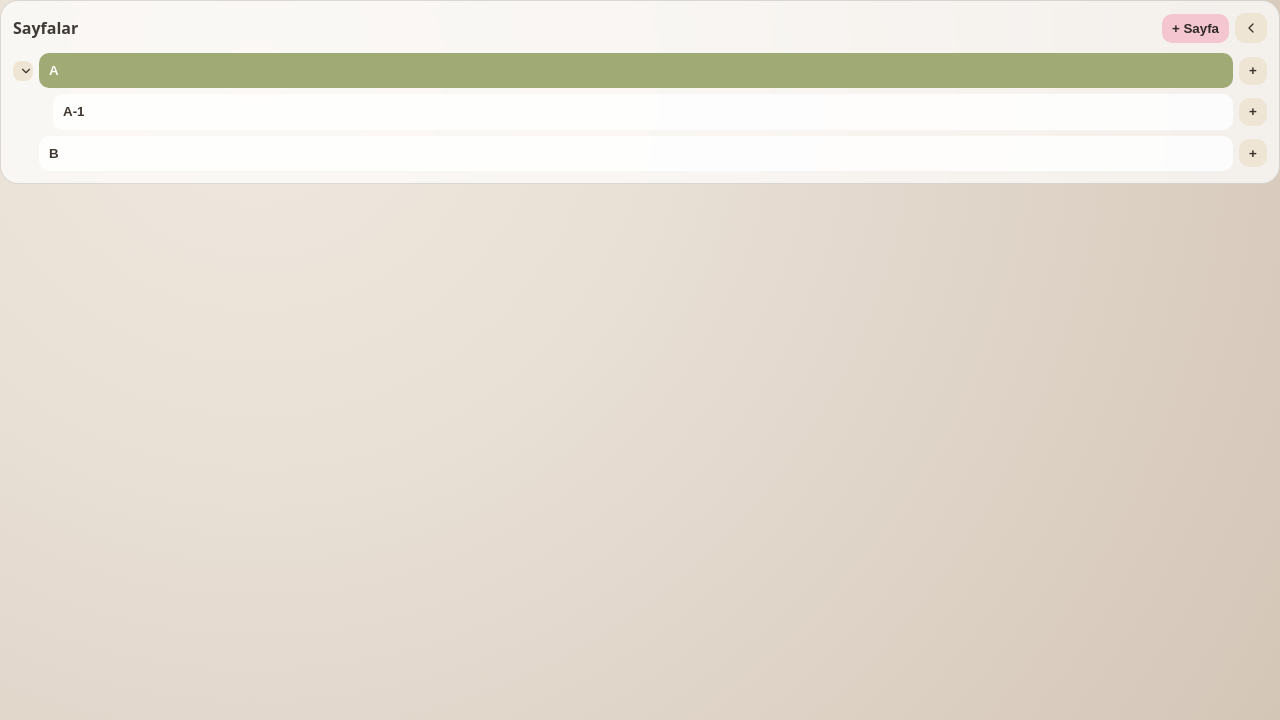
Scenario: NotesSidebar DnD › toggles subpages with arrow button
Check: the button "A-1" is shown, box left=53, top=94, right=1233, bottom=130
Click the button named "A alt sayfalari kapat": (23, 71) left=13, top=61, right=33, bottom=81
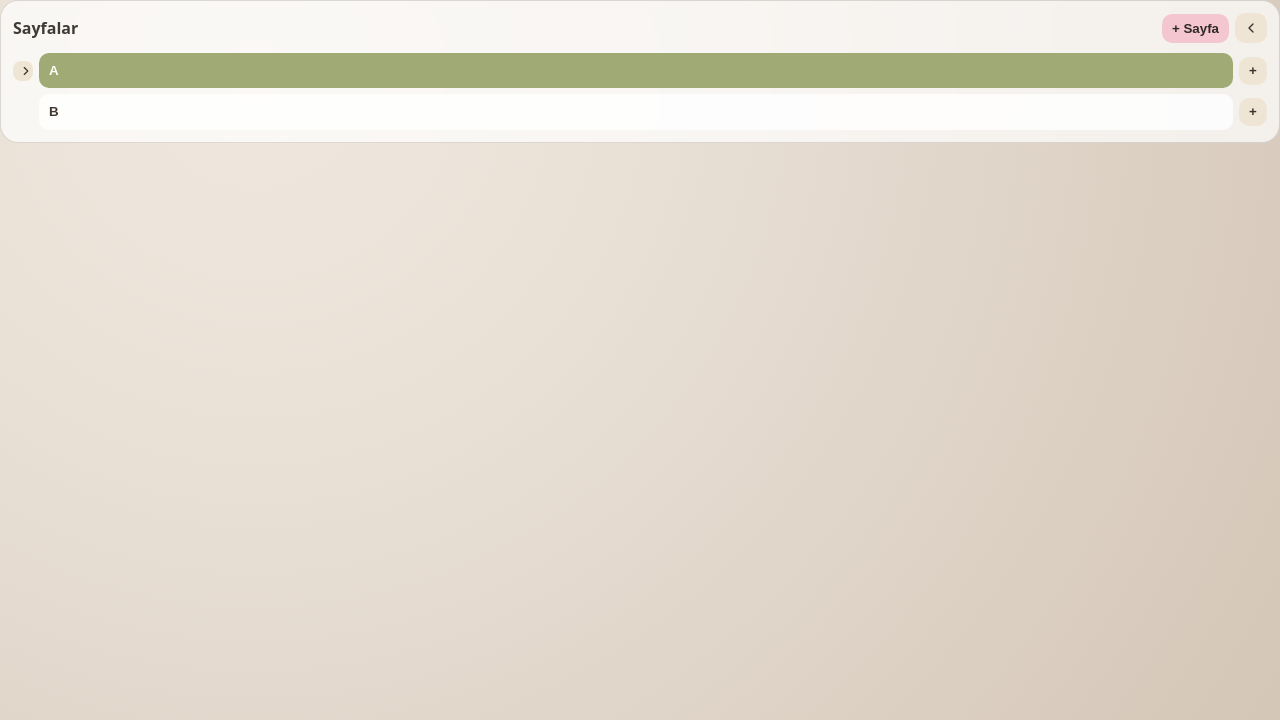
Check: the button "A-1" is gone
Click the button named "A alt sayfalari ac": (23, 71) left=13, top=61, right=33, bottom=81
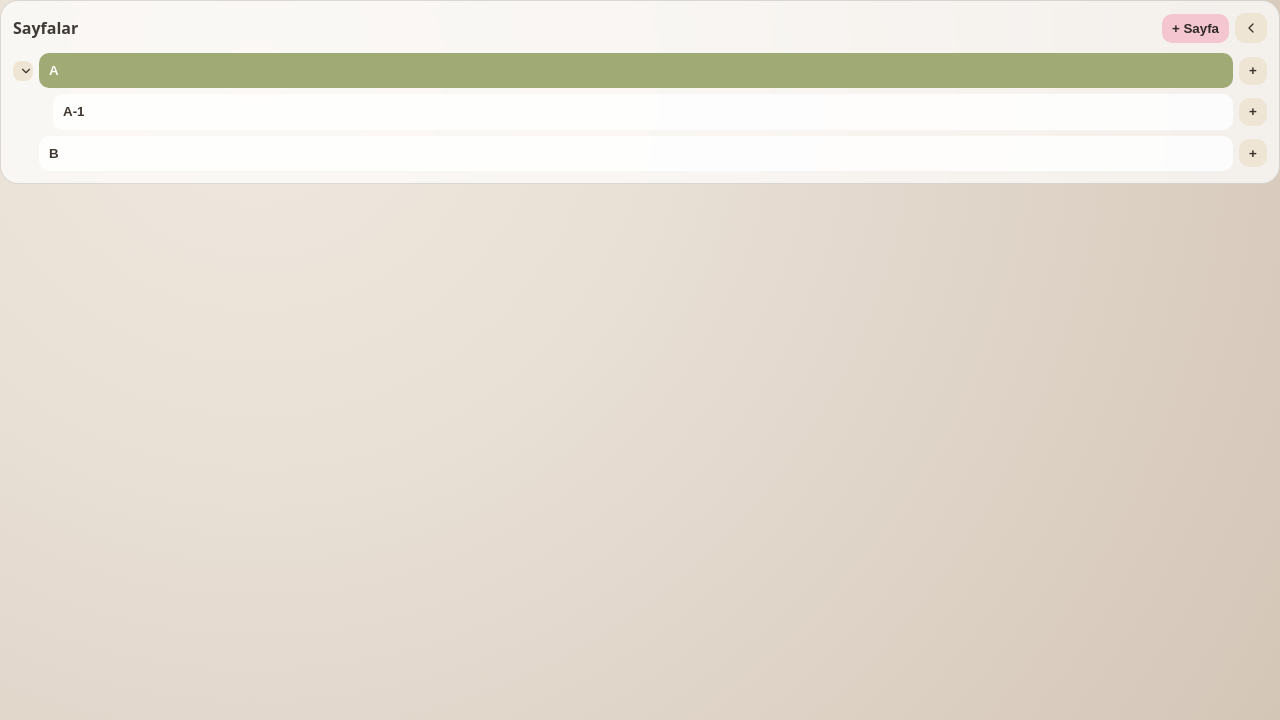
Check: the button "A-1" is shown, box left=53, top=94, right=1233, bottom=130
